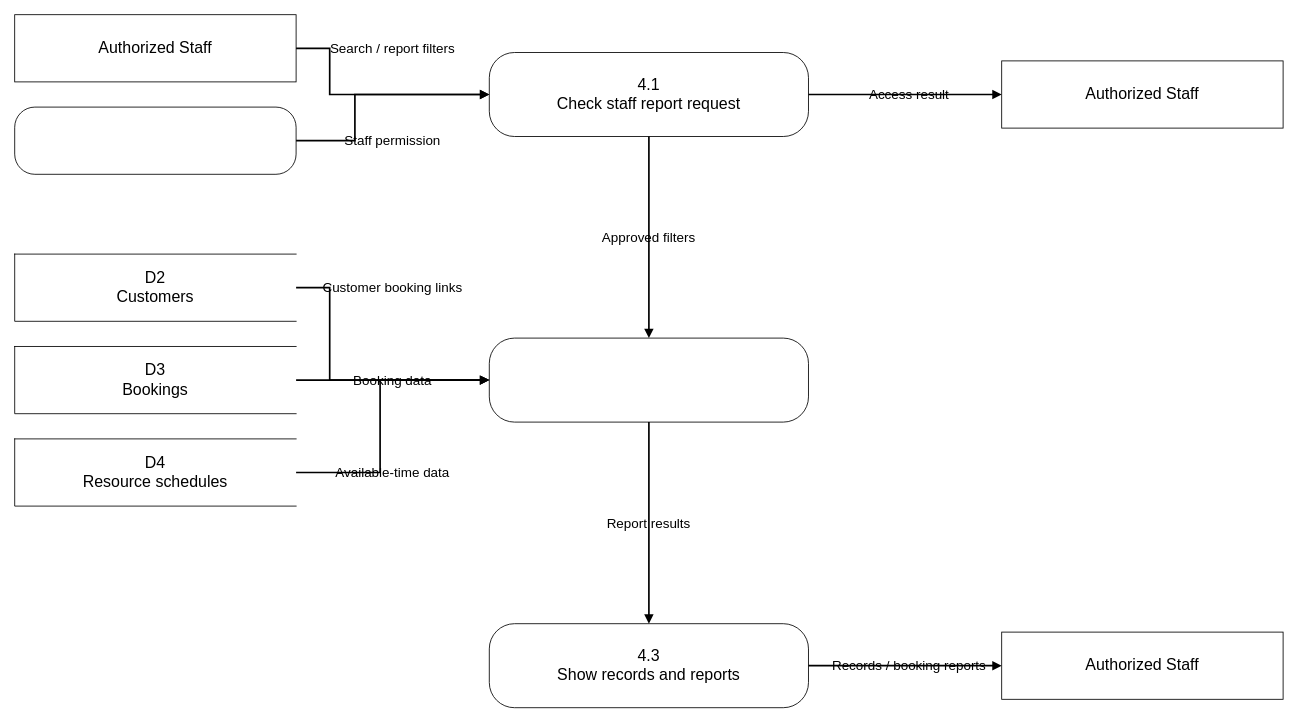
This 1298x722 diagram has some shape labels left out. Each missing label, with the box of its shape:
1.4 Access check: (14, 106, 296, 174)
4.2 Calculate report results: (488, 337, 808, 422)
